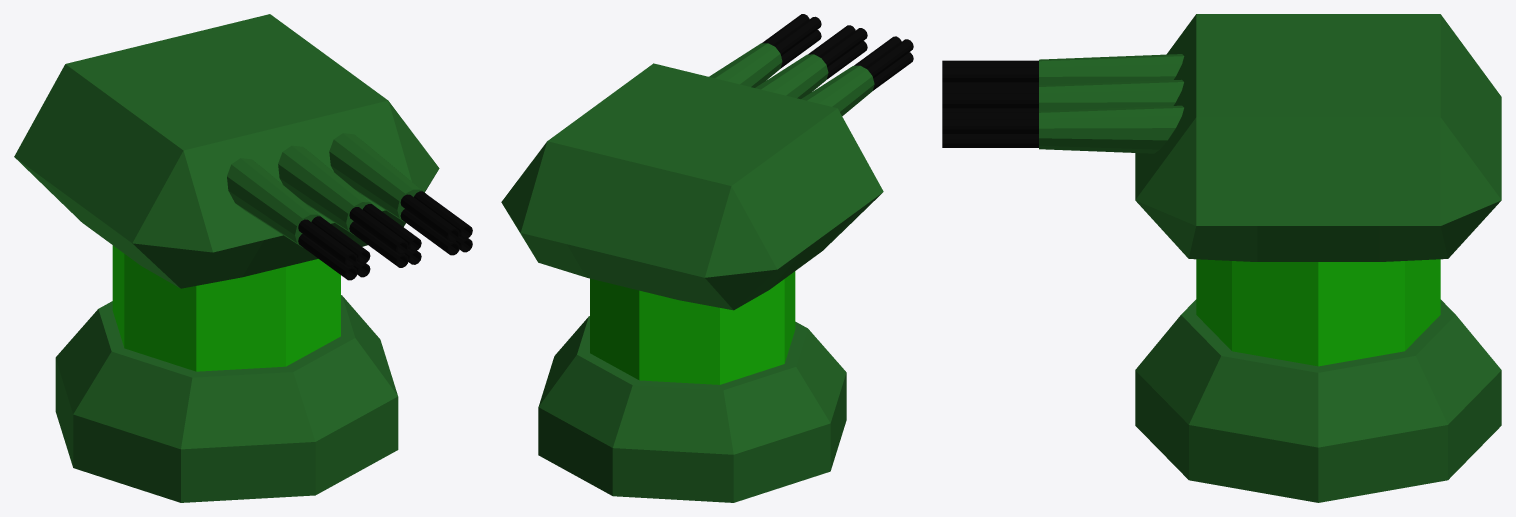
The model's file is Turret2_2.glb.
The picture shows the model from 3 angles, left to right: view 1: azimuth 30°, elevation 25°; view 2: azimuth 150°, elevation 25°; view 3: azimuth 270°, elevation 25°; orthographic projection. The views are drawn at different scales.
Parts seen in each view (by area): view 1: TurretUpgradePath2_2; view 2: TurretUpgradePath2_2; view 3: TurretUpgradePath2_2.
Boxes of the visible parts, left/top/right/bottom form: TurretUpgradePath2_2: left=14, top=14, right=472, bottom=502; TurretUpgradePath2_2: left=501, top=14, right=913, bottom=502; TurretUpgradePath2_2: left=942, top=14, right=1501, bottom=502.
Size of the model in its own units: 3 by 3.25 by 4.58.
